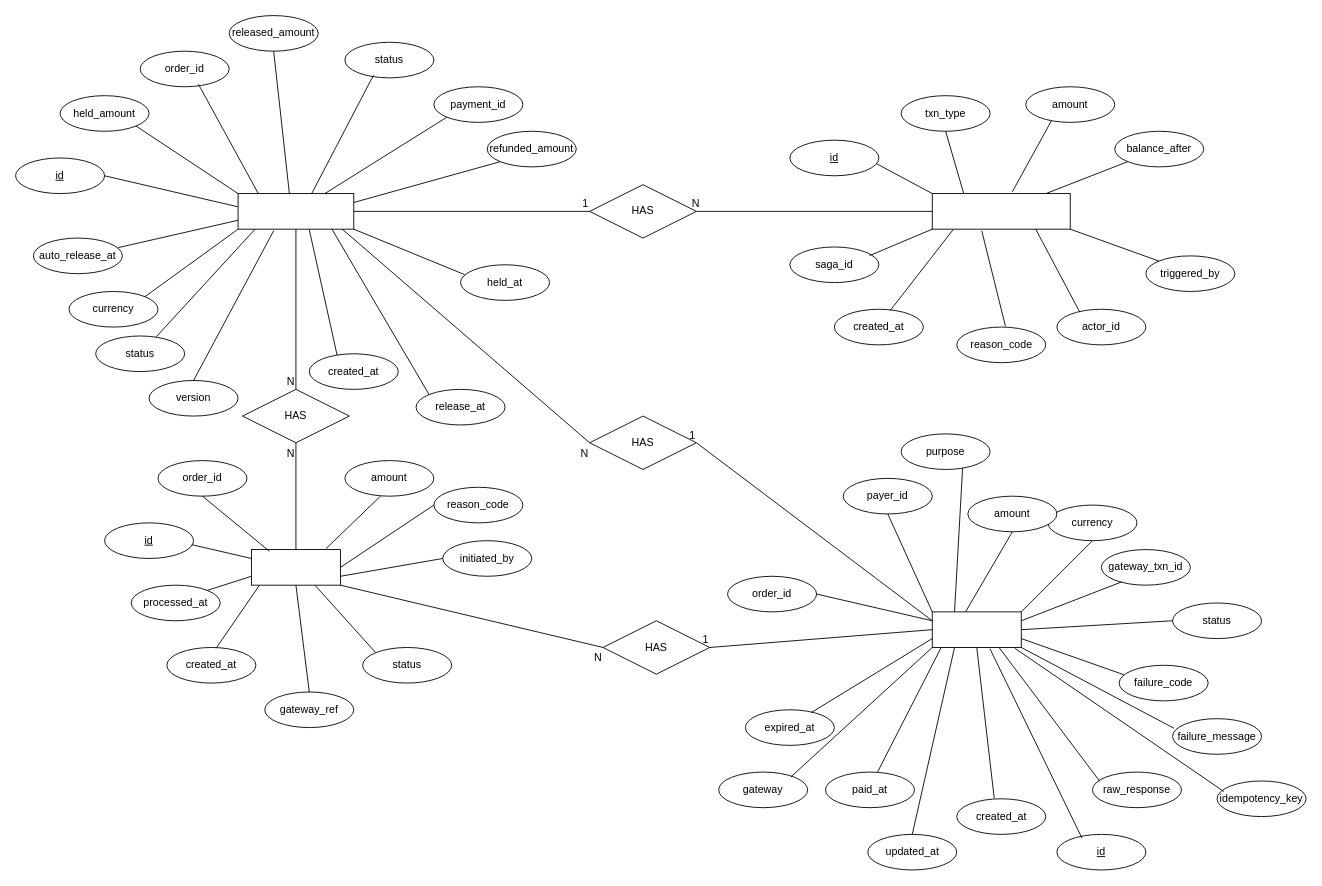
This 1322x886 diagram has some shape labels left out. Here are the shapes that lost their labels. From the top down, the centre of each, then its label:
point 295,211: ESCROW_ACCOUNT
point 1000,211: ESCROW_TRANSACTION
point 295,567: REFUND
point 976,629: PAYMENT
